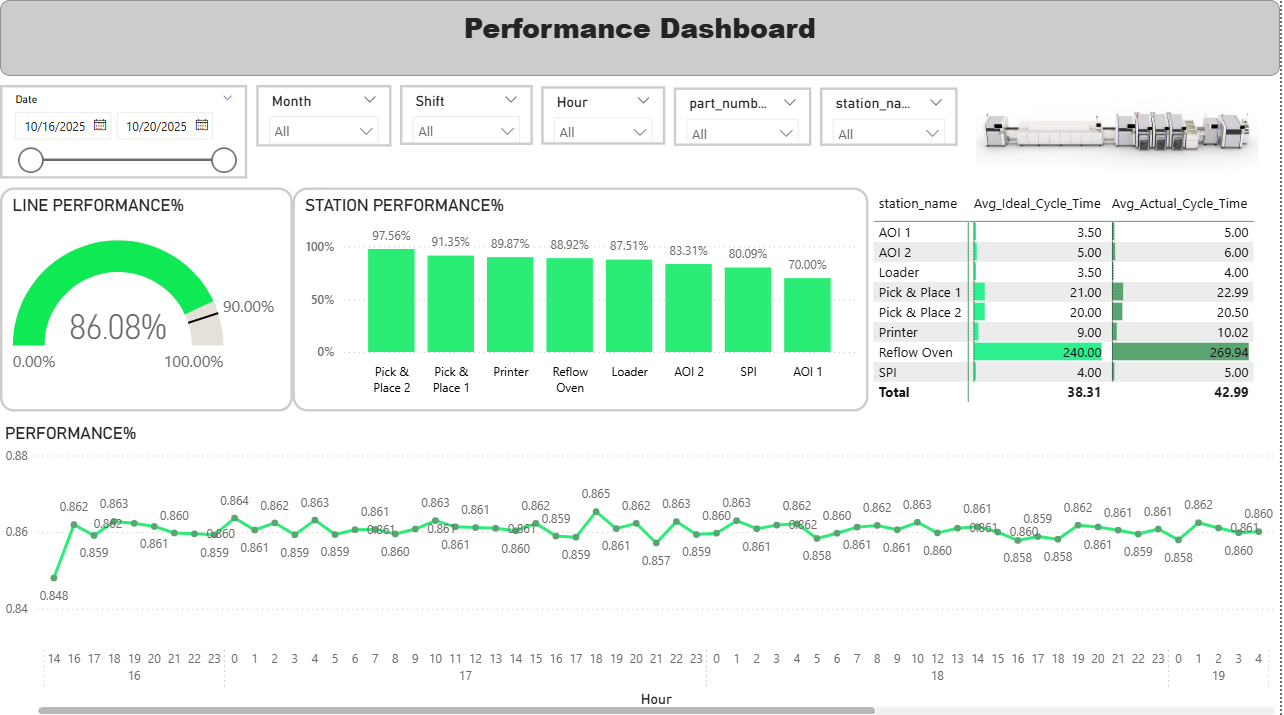

The page's visual inventory and layout, read from the dashboard file:
{"tool":"powerbi","page":{"name":"Performance","canvas":[1280,720],"ordinal":2},"visuals":[{"type":"textbox","box":[0,0,1280,76.2],"z":0},{"type":"gauge","title":"LINE PERFORMANCE%","fields":{"Y":["performance_quality_hourly_stationwise_fact.Avg_Performance_stationwise"]},"box":[0,187.5,292.5,223.8],"z":1000},{"type":"columnChart","title":"STATION PERFORMANCE%","fields":{"Y":["performance_quality_hourly_stationwise_fact.Avg_Performance_stationwise"],"Category":["stations_dim.station_name"]},"box":[292.5,187.5,576.2,223.8],"z":2000},{"type":"slicer","fields":{"Values":["date_hour_dim.Date"]},"box":[0,85,247.5,93.8],"z":3000},{"type":"slicer","fields":{"Values":["shift_dim.Shift"]},"box":[400,85,132.5,60],"z":4000},{"type":"slicer","fields":{"Values":["shift_dim.Hour"]},"box":[541.2,86.2,123.8,58.8],"z":5000},{"type":"slicer","fields":{"Values":["stations_dim.station_name"]},"box":[820,87.5,137.5,58.8],"z":6000},{"type":"slicer","fields":{"Values":["calendar_dim.Month"]},"box":[256.2,85,135,61.2],"z":7000},{"type":"lineChart","title":"PERFORMANCE%","fields":{"Category":["date_hour_dim.date_hour.Variation.Date Hierarchy.Day","date_hour_dim.Hour"],"Y":["performance_quality_hourly_stationwise_fact.Avg_Performance_stationwise"]},"box":[0,422.5,1280,297.5],"z":8000},{"type":"image","box":[971.2,85,292.5,93.8],"z":9000},{"type":"pivotTable","fields":{"Rows":["stations_dim.station_name"],"Values":["performance_quality_hourly_stationwise_fact.Avg_Ideal_Cycle_Time","performance_quality_hourly_stationwise_fact.Avg_Actual_Cycle_Time"]},"box":[868.8,187.5,395,225],"z":10000},{"type":"slicer","fields":{"Values":["quality_linewise_datehour_fact.part_number"]},"box":[673.8,87.5,137.5,58.8],"z":11000}]}

Visuals, with their boxes in screenshot pixels (x1, y1, x2, y2), scaled from the page's 1280x720 canvas onto the 1284x715 screenshot:
textbox: l=0, t=0, r=1283, b=76
"LINE PERFORMANCE%" gauge: l=0, t=186, r=293, b=408
"STATION PERFORMANCE%" columnChart: l=293, t=186, r=871, b=408
slicer - date_hour_dim.Date: l=0, t=84, r=248, b=178
slicer - shift_dim.Shift: l=401, t=84, r=534, b=144
slicer - shift_dim.Hour: l=543, t=86, r=667, b=144
slicer - stations_dim.station_name: l=823, t=87, r=960, b=145
slicer - calendar_dim.Month: l=257, t=84, r=392, b=145
"PERFORMANCE%" lineChart: l=0, t=420, r=1283, b=714
image: l=974, t=84, r=1268, b=178
pivotTable - stations_dim.station_name x performance_quality_hourly_stationwise_fact.Avg_Ideal_Cycle_Time: l=872, t=186, r=1268, b=410
slicer - quality_linewise_datehour_fact.part_number: l=676, t=87, r=814, b=145
